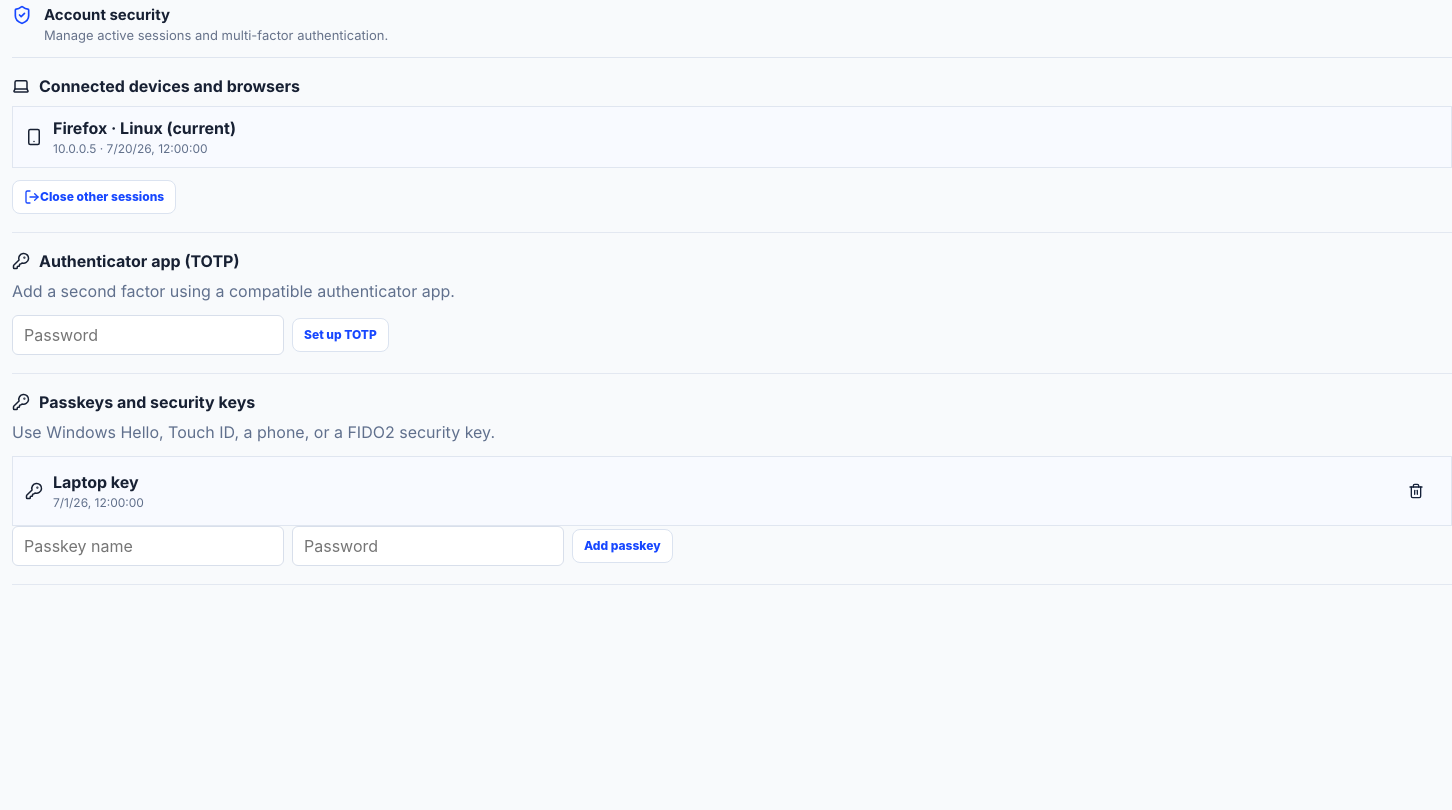
SecuritySettings › asks for the password before removing a passkey
The width and height of the screenshot is (1452, 810).
Click the button named "Remove passkey". click: [1416, 491]
box: [1393,468,1439,514]
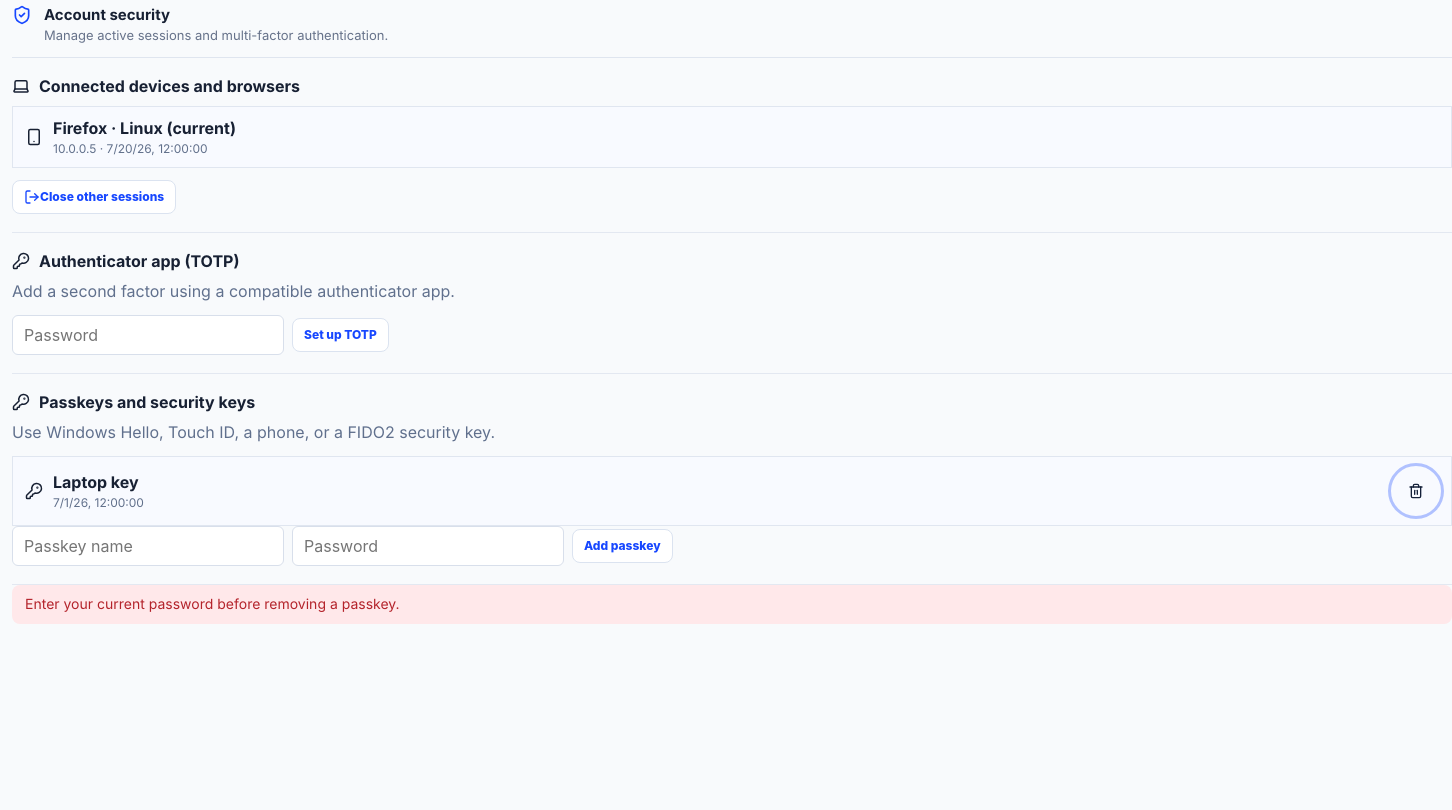
Expected: the text "Enter your current password before removing a passkey." is shown, [12,585,1451,624]
Type "secret-password" into the password field with placeholder "Password" below "7/1/26, 12:00:00". click: [428, 546]
box: [292,526,564,566]
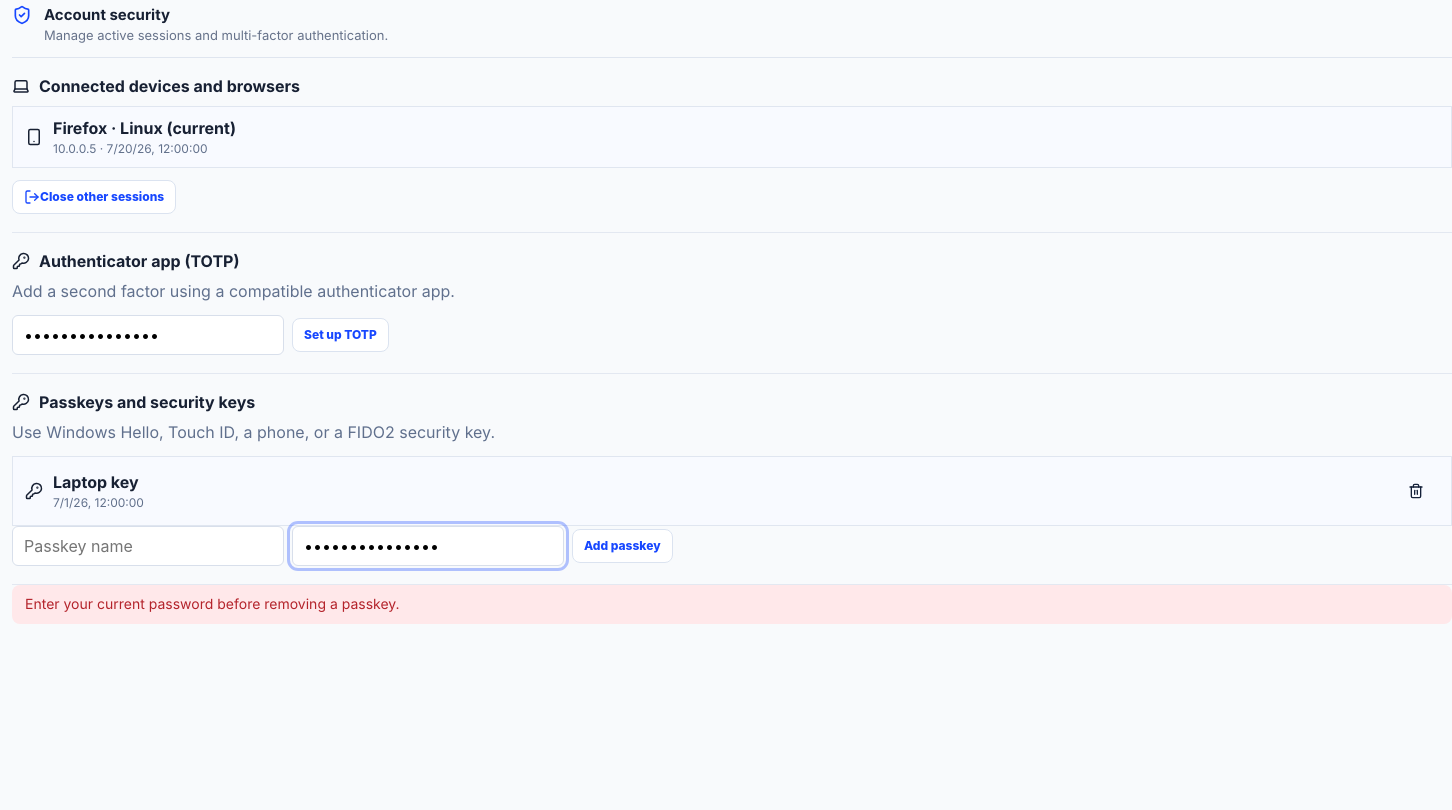
Click the button named "Remove passkey". click: [1416, 491]
box: [1393,468,1439,514]
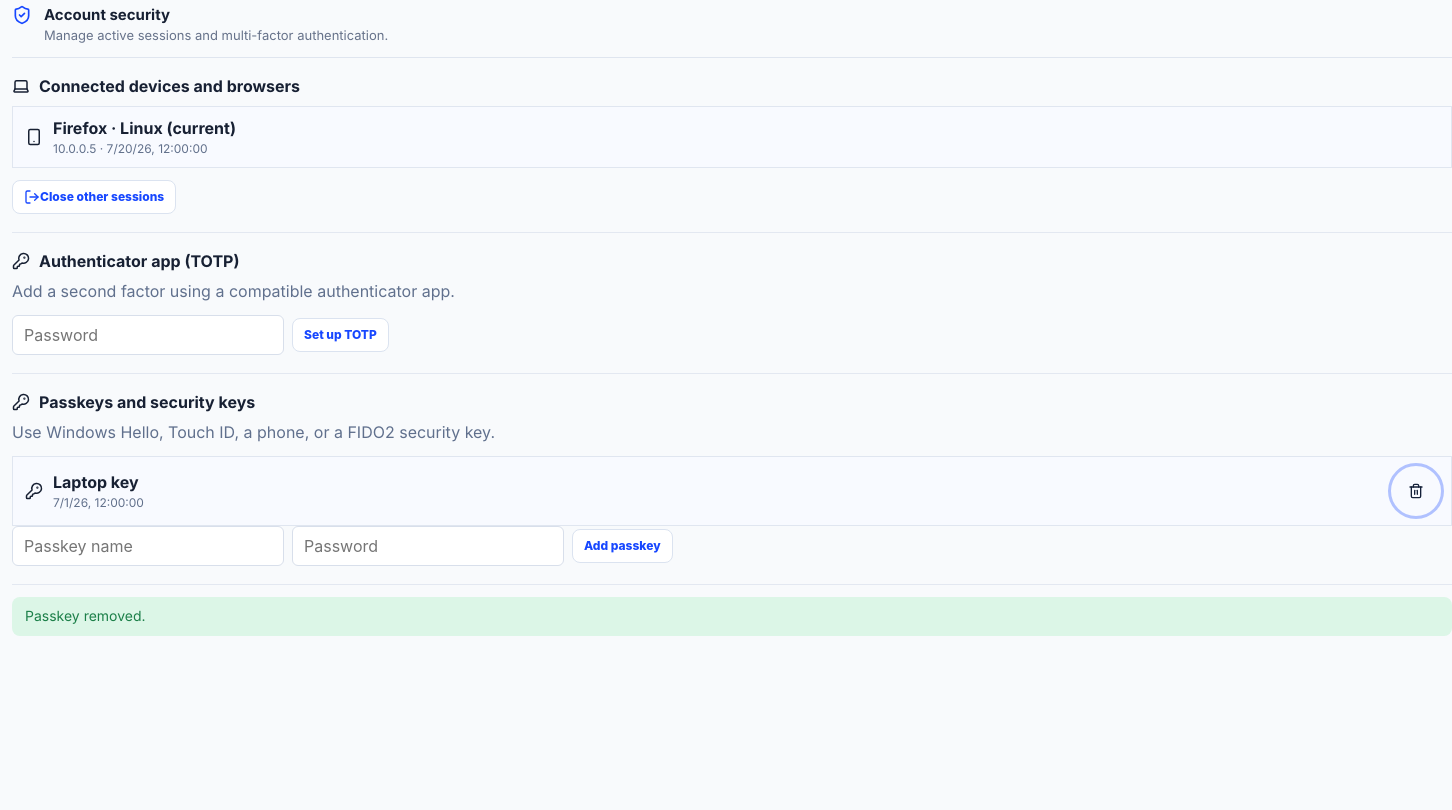
Expected: the text "Passkey removed." is shown, [12,597,1451,636]
Expected: the text "Enter your current password before removing a passkey." is gone
